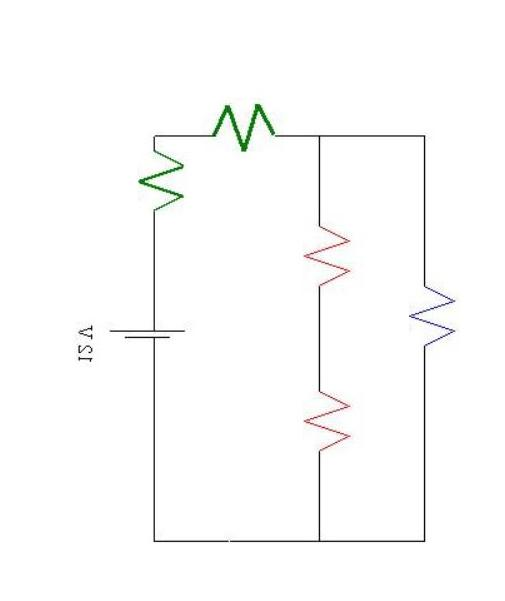resistor: (286, 196, 364, 312), (391, 253, 465, 374), (294, 361, 369, 479), (193, 87, 294, 154)
